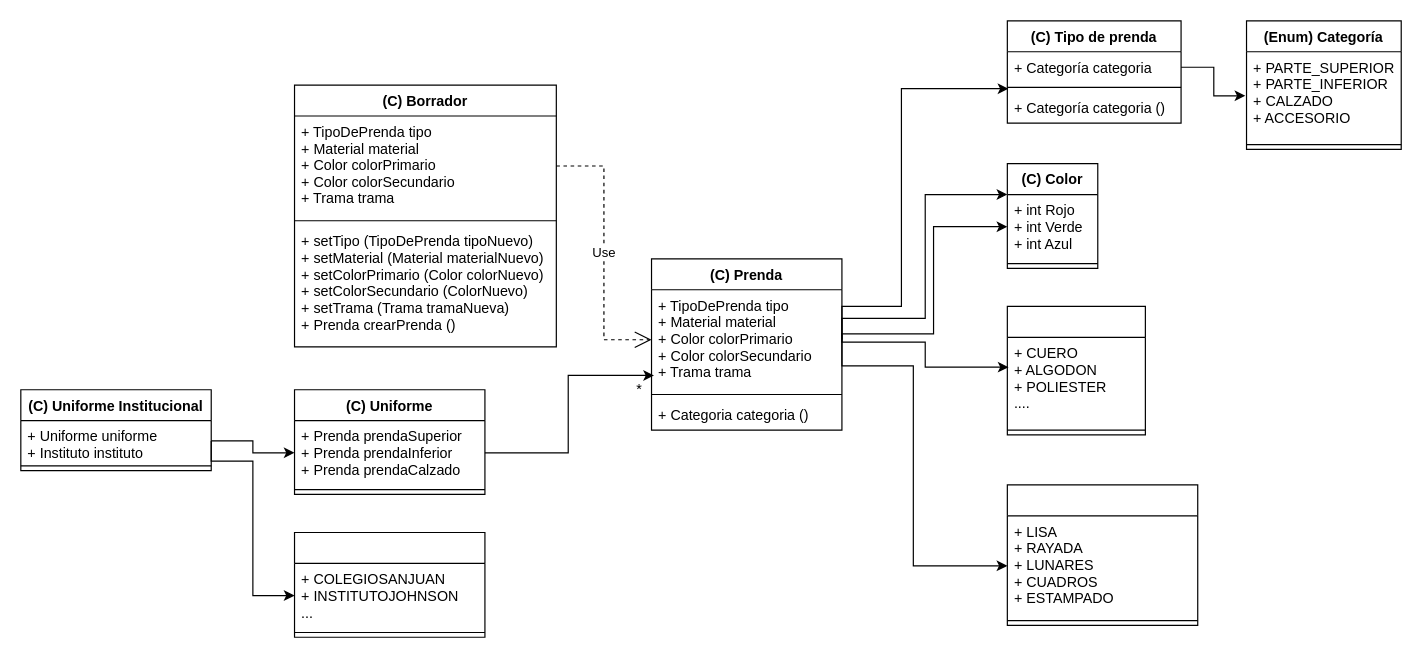
Image size: 1422x658. Some labels were removed from this diagram. The shapes that lost their labels are listed below. From the top down, each one's box as (x1, y1, x2, y2) in pixels, then its label:
(1006, 305, 1145, 435): (Enum) Material
(1006, 484, 1198, 625): (Enum) Trama
(293, 531, 485, 637): (Enum) Instituto
